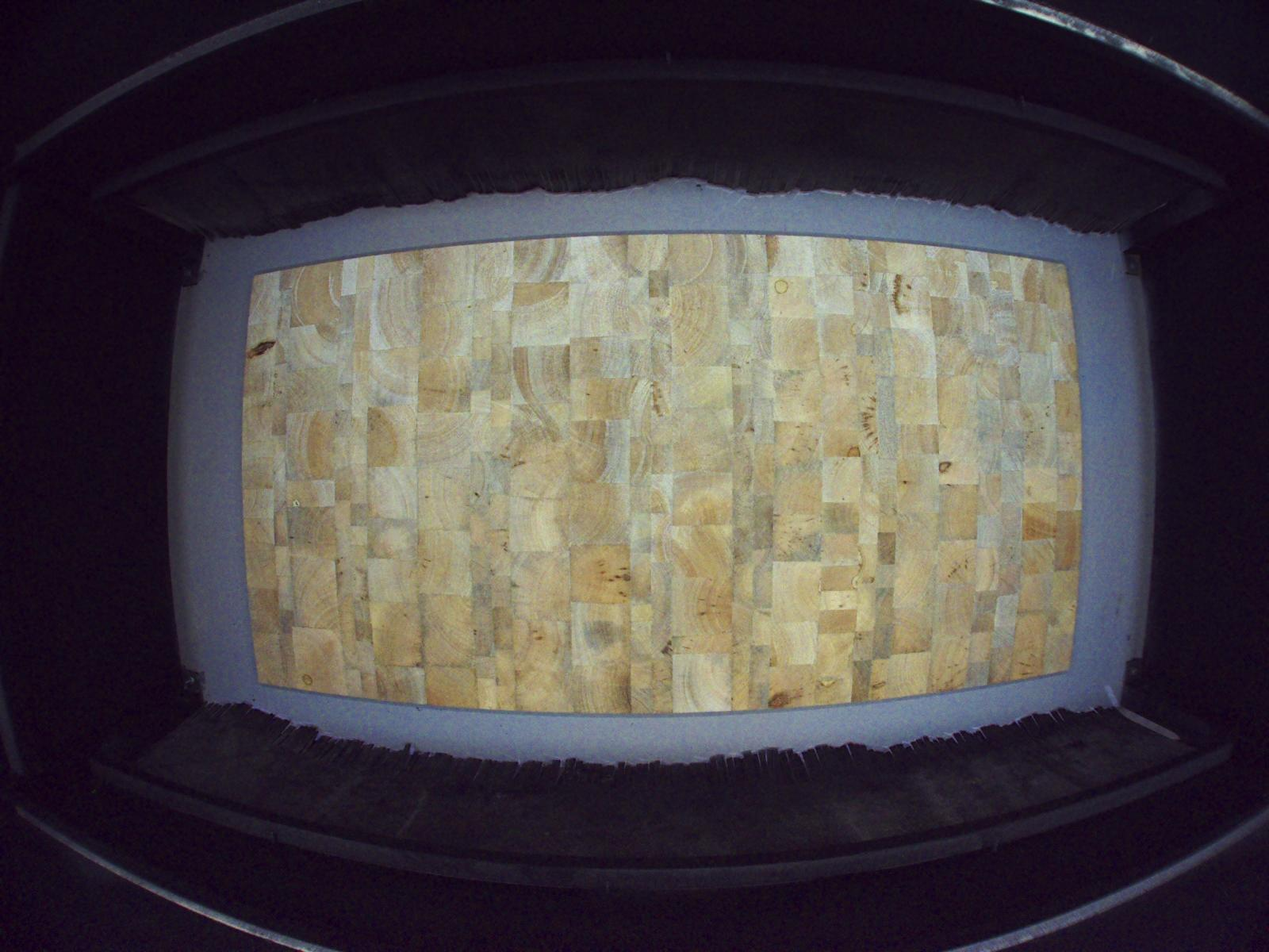nudillo: (246, 338, 277, 361), (769, 692, 792, 710)
